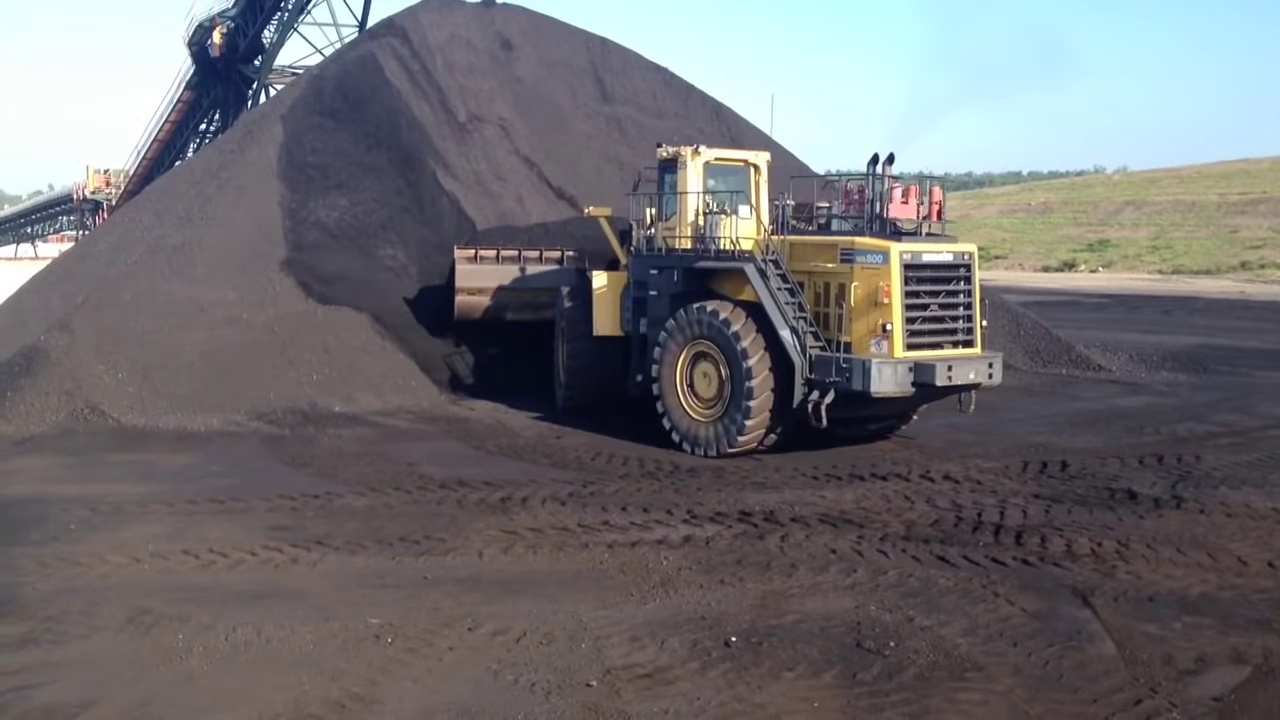wheel loader: (455, 144, 1001, 457)
